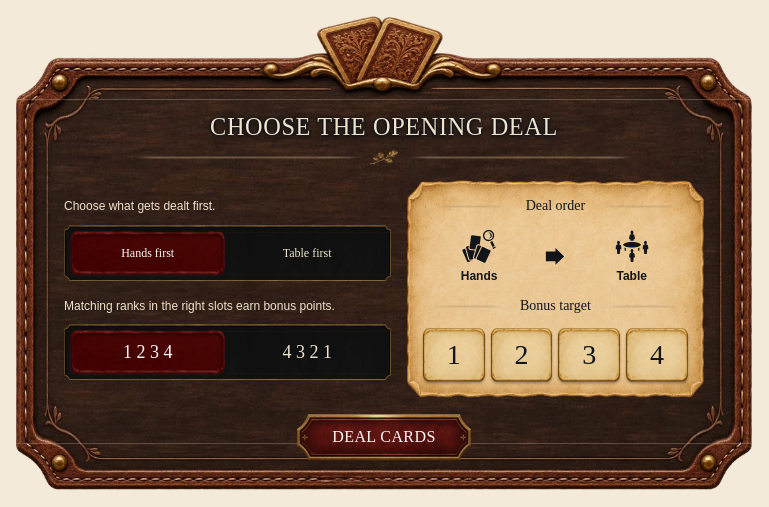
Scenario: keeps one option selected in each group and deals the selected order and bonus pattern
Later steps or results of the test are not shown.
Click the button "Table first" at (307, 253), box [229,231,385,275]
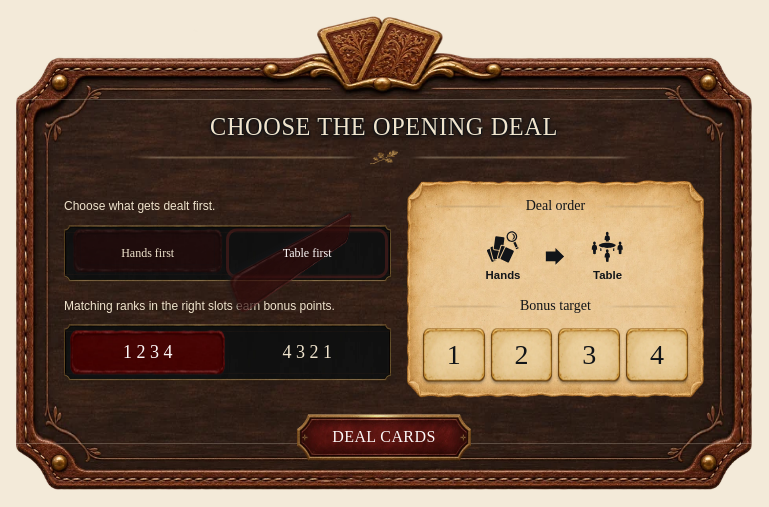
Click the button "Table first" at (307, 253), box [229,231,385,275]
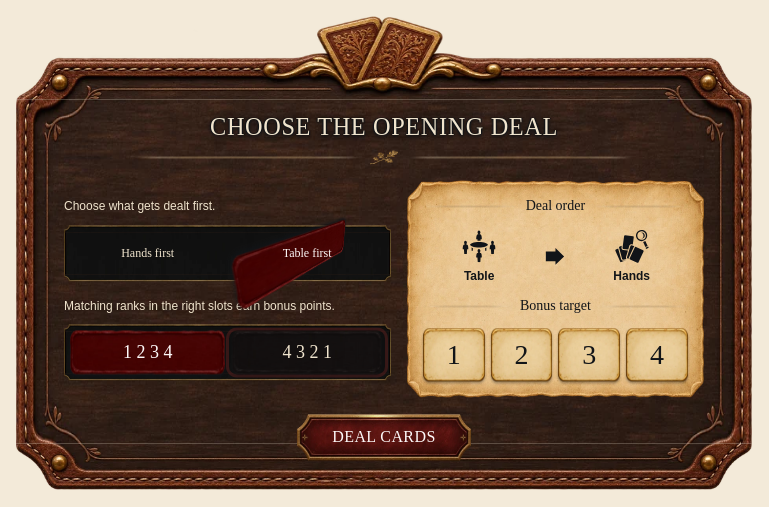
Expected: the button "Table first" is pressed, [229,231,385,275]
Type keys " "
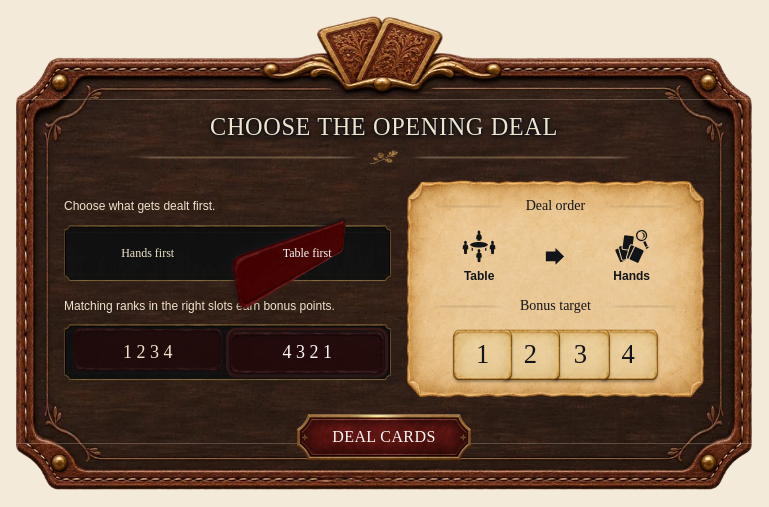
Expected: the button named "Descending, 4–3–2–1" is pressed, [229,331,385,375]
